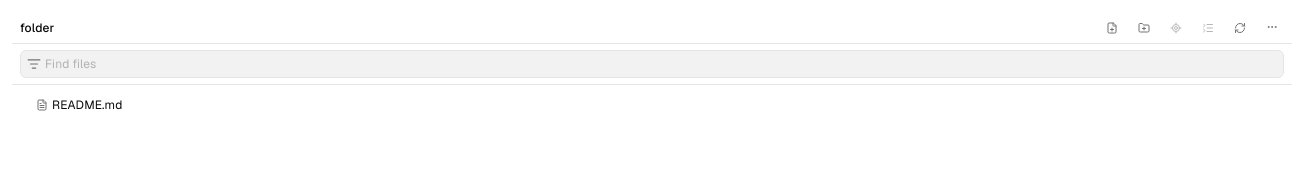
Test: create (#163) › surfaces a daemon failure as an action error, never a contract banner
Click the button named "New File" at (1112, 28), box [1100,16,1124,40]
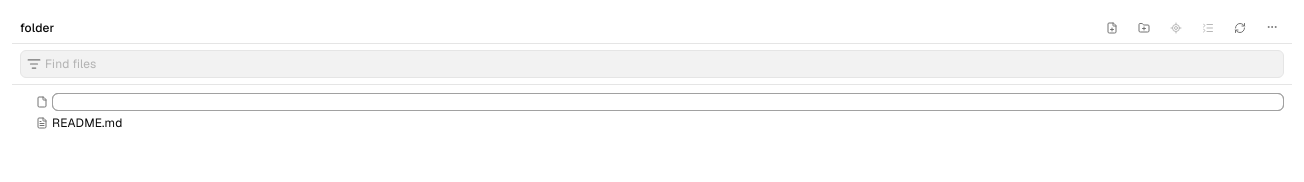
Type "fresh.txt" into the field named "New file name" at (668, 102), box [52,93,1284,111]
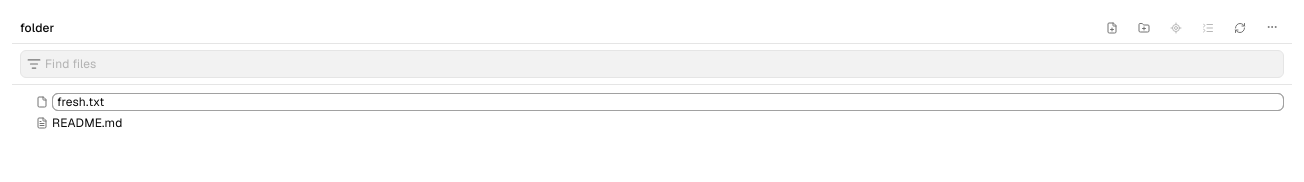
Press Enter in the field named "New file name", box [52,93,1284,111]
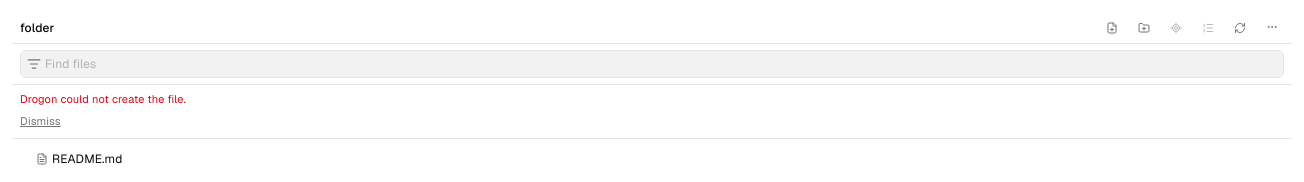
expect the button "fresh.txt" is not shown: met
expect the message shows "Drogon could not create the file.": met, box [20,92,186,106]
